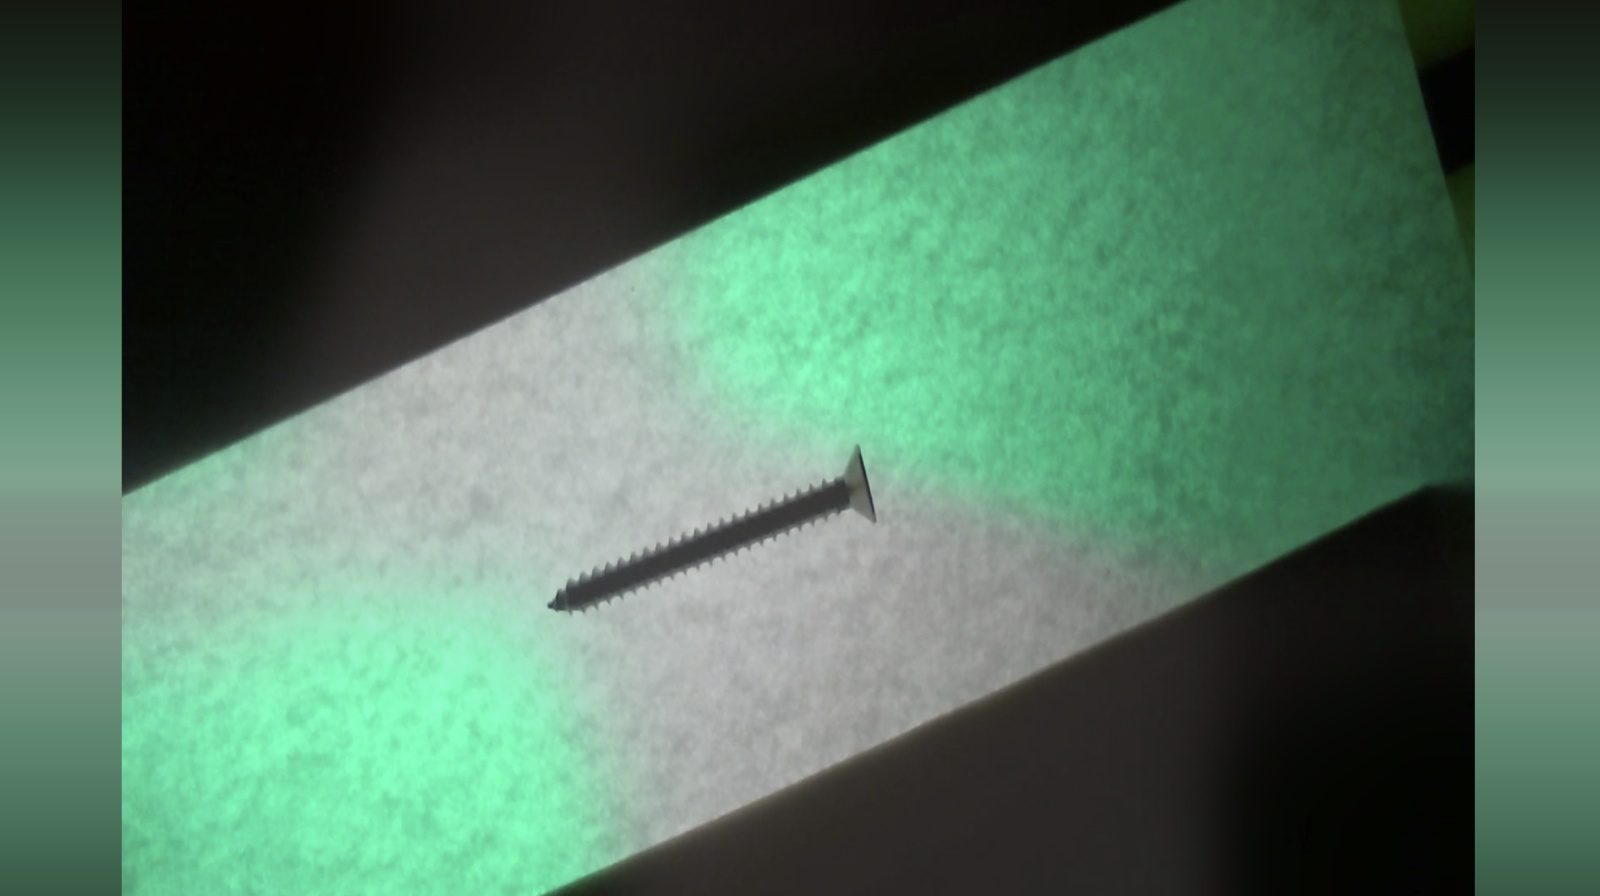S002: (537, 428, 887, 633)
